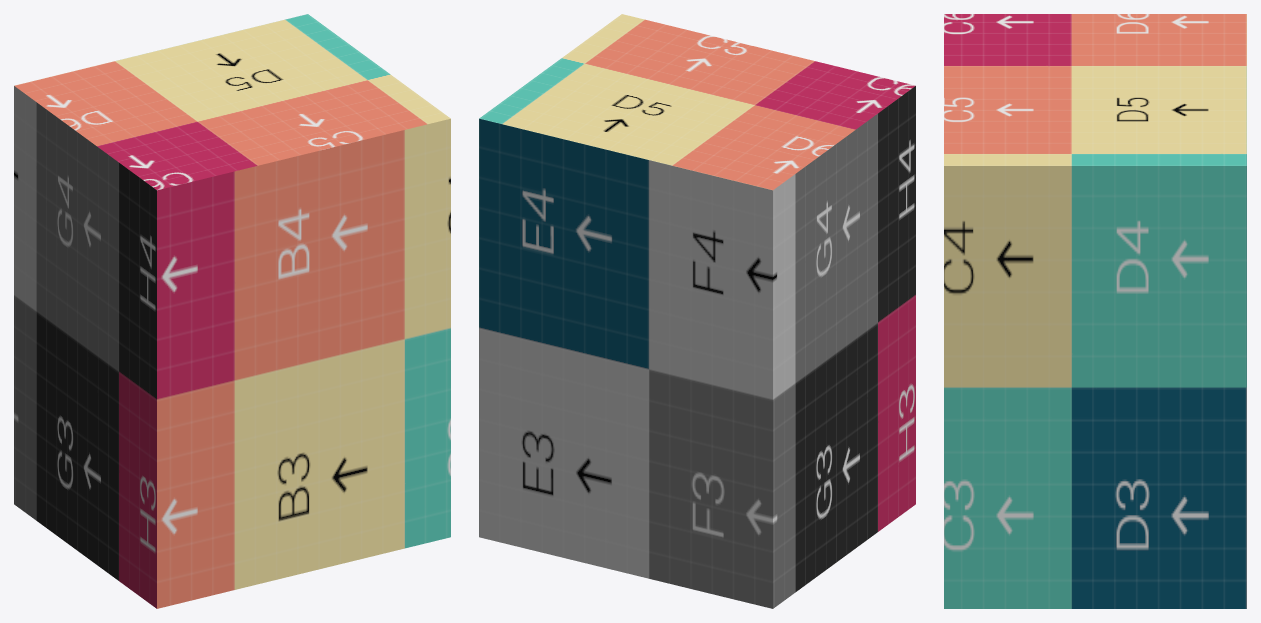
The model's file is computer.glb.
3 views of the same model, side by side, from view 1: azimuth 30°, elevation 25°; view 2: azimuth 150°, elevation 25°; view 3: azimuth 270°, elevation 25° (orthographic). The views are drawn at different scales.
Visible parts, largest first — view 1: col_computer; view 2: col_computer; view 3: col_computer.
Boxes of the visible parts, box(x1,y1,x2,y2) form: col_computer: box(14, 14, 450, 608); col_computer: box(479, 14, 915, 608); col_computer: box(944, 14, 1246, 608).
Bounding box in the file's own units: 0.5224 × 0.711 × 0.4401.
Materials: 1 (1 with a texture image).
